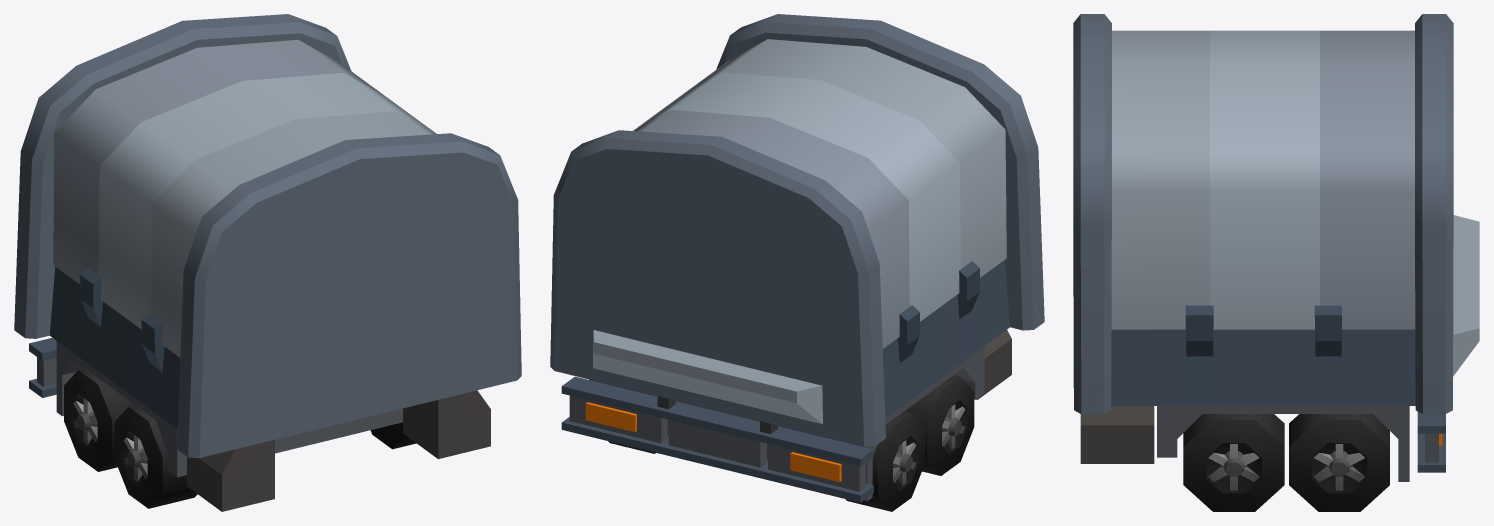
File: cargo_02_A_1.fbx
3 views of the same model, side by side, from view 1: azimuth 30°, elevation 25°; view 2: azimuth 150°, elevation 25°; view 3: azimuth 270°, elevation 25° (orthographic). The views are drawn at different scales.
Parts seen in each view (by area): view 1: cargo_02_A_1; view 2: cargo_02_A_1; view 3: cargo_02_A_1.
Part boxes in pixels (x1,y1,x2,y2): cargo_02_A_1: (14, 14, 521, 511); cargo_02_A_1: (550, 14, 1044, 511); cargo_02_A_1: (1073, 14, 1479, 511).
Size of the model in its own units: 1377 by 1464 by 1385.
